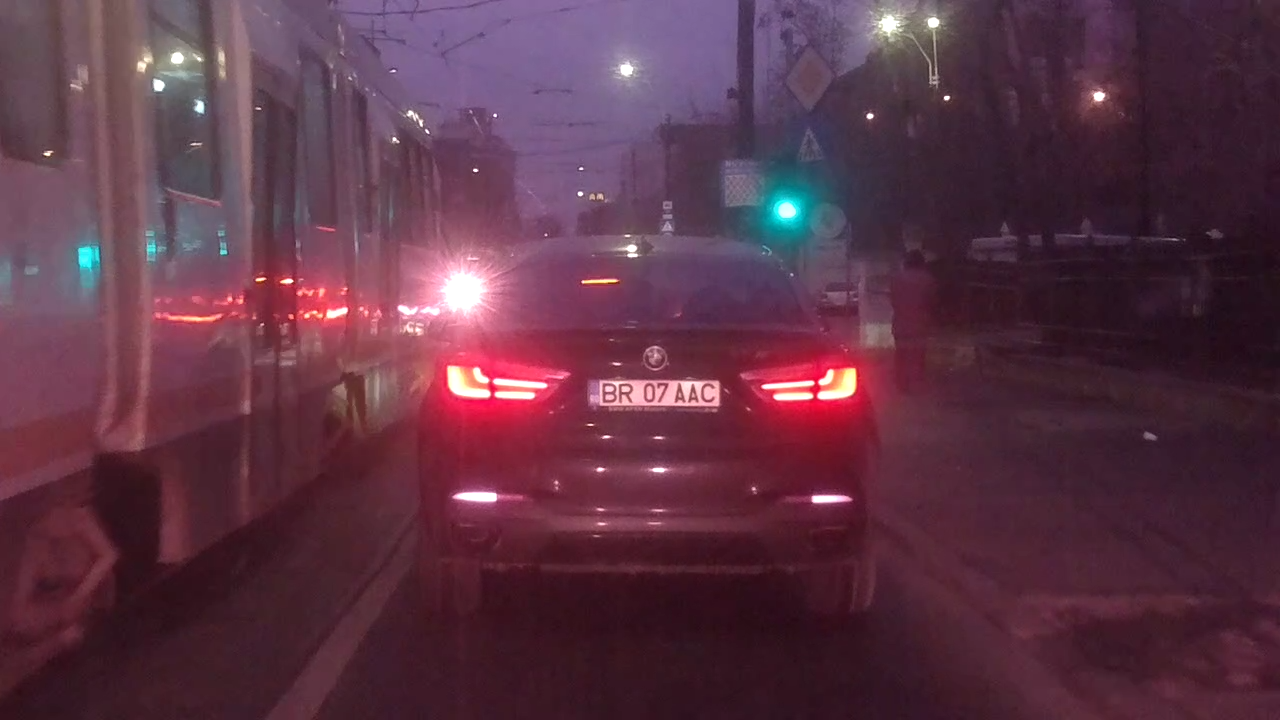license-plate: (584, 376, 724, 410)
